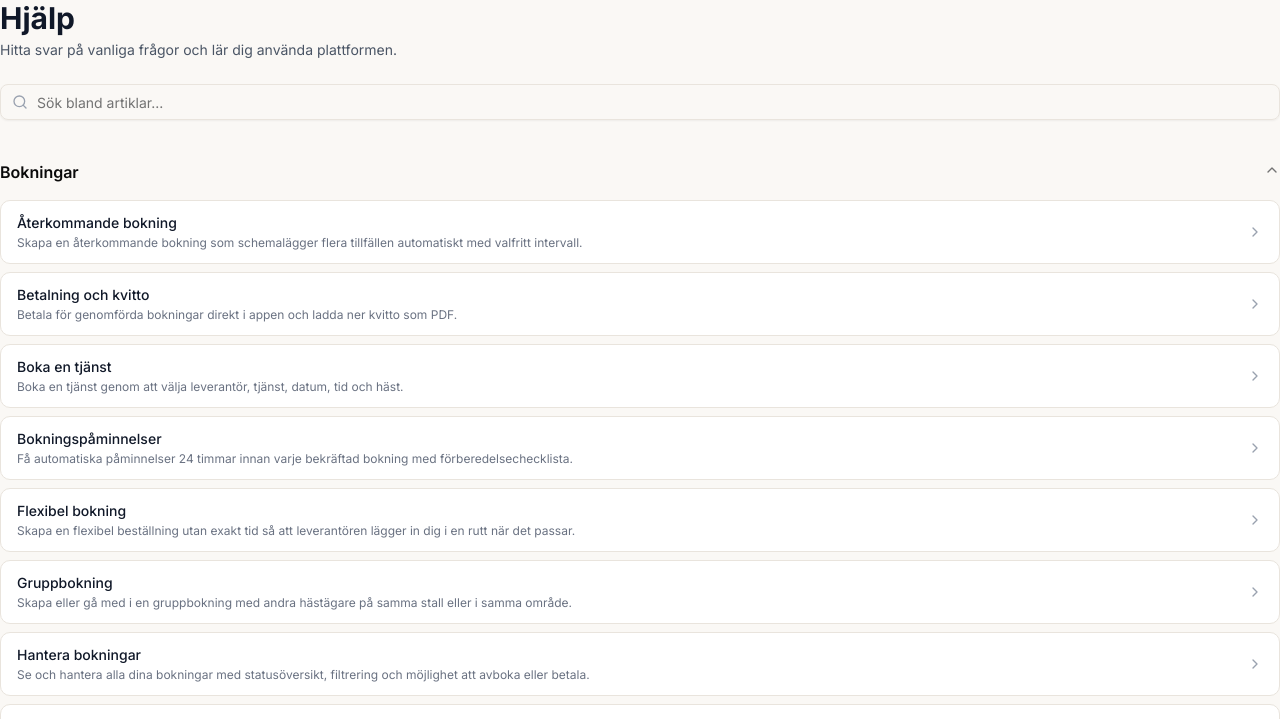
HelpCenter › shows empty state for no matching search
Type "xyznonexistent123" into the search field with placeholder "Sök bland artiklar..." at (640, 102), box [0,84,1279,120]
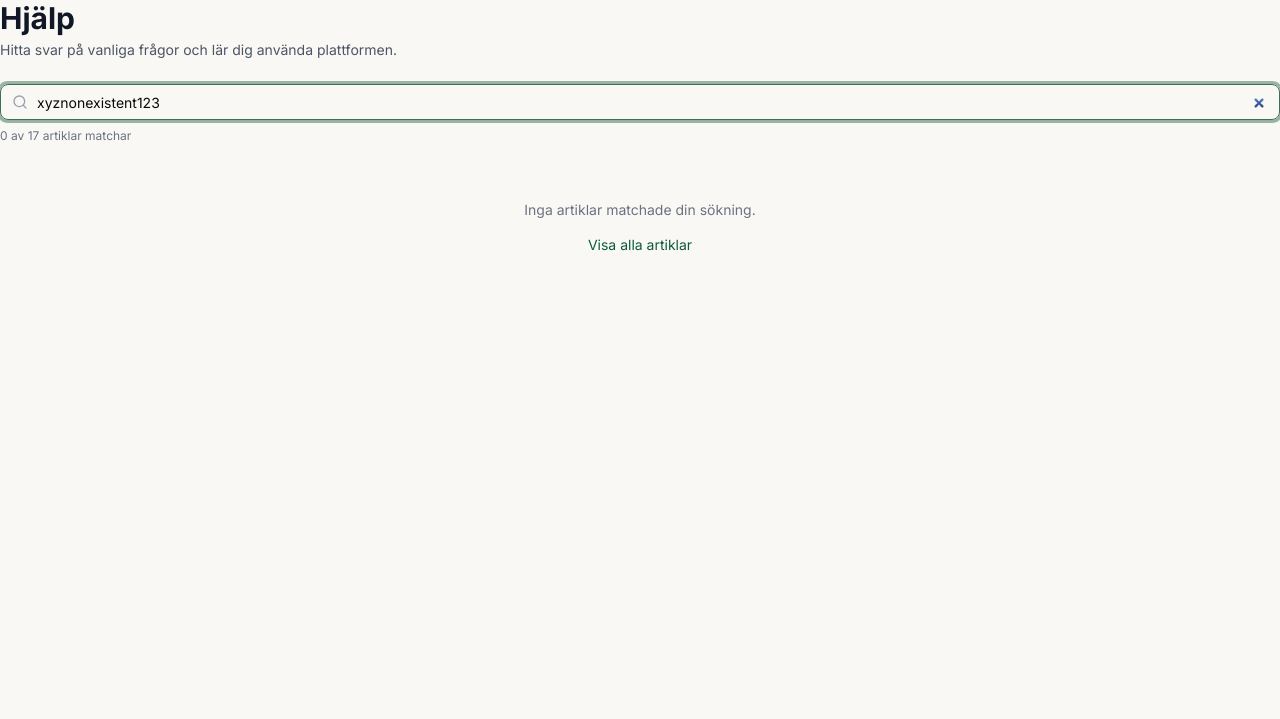
expect the text "Inga artiklar matchade din sökning." is shown: met, box [524,201,756,218]
